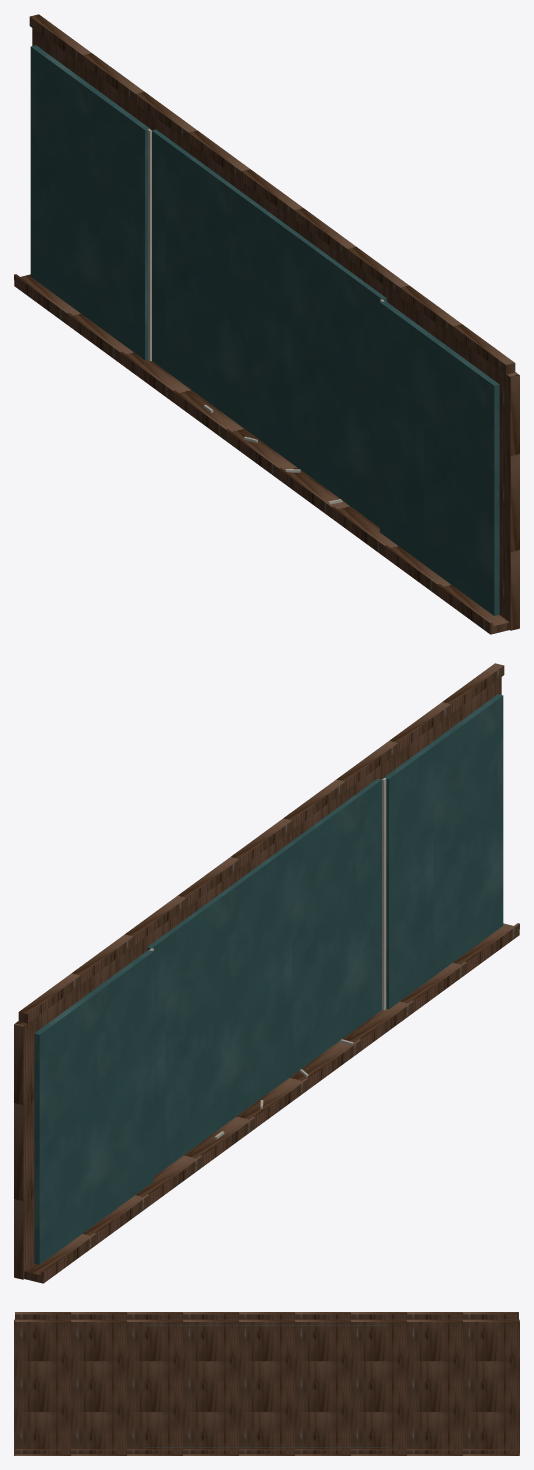
The model's file is Blackboard.obj.
3 renders of one model, top to bottom at view 1: azimuth 30°, elevation 25°; view 2: azimuth 150°, elevation 25°; view 3: azimuth 270°, elevation 25°, orthographic. The views are drawn at different scales.
Parts seen in each view (by area): view 1: panel, frame, tray, strip; view 2: panel, frame, tray, strip; view 3: frame, tray, panel.
Part boxes in pixels (x1=…): panel: x1=30, y1=45, x2=499, y2=615; frame: x1=29, y1=14, x2=519, y2=630; tray: x1=14, y1=274, x2=509, y2=634; strip: x1=147, y1=129, x2=384, y2=361; panel: x1=34, y1=694, x2=503, y2=1264; frame: x1=14, y1=663, x2=504, y2=1279; tray: x1=24, y1=923, x2=519, y2=1283; strip: x1=149, y1=778, x2=386, y2=1010; frame: x1=14, y1=1312, x2=519, y2=1455; tray: x1=15, y1=1449, x2=518, y2=1454; panel: x1=145, y1=1325, x2=388, y2=1447.
Bounding box in the file's own units: 0.156 × 1.38 × 4.52.
3 materials, 3 textured.
